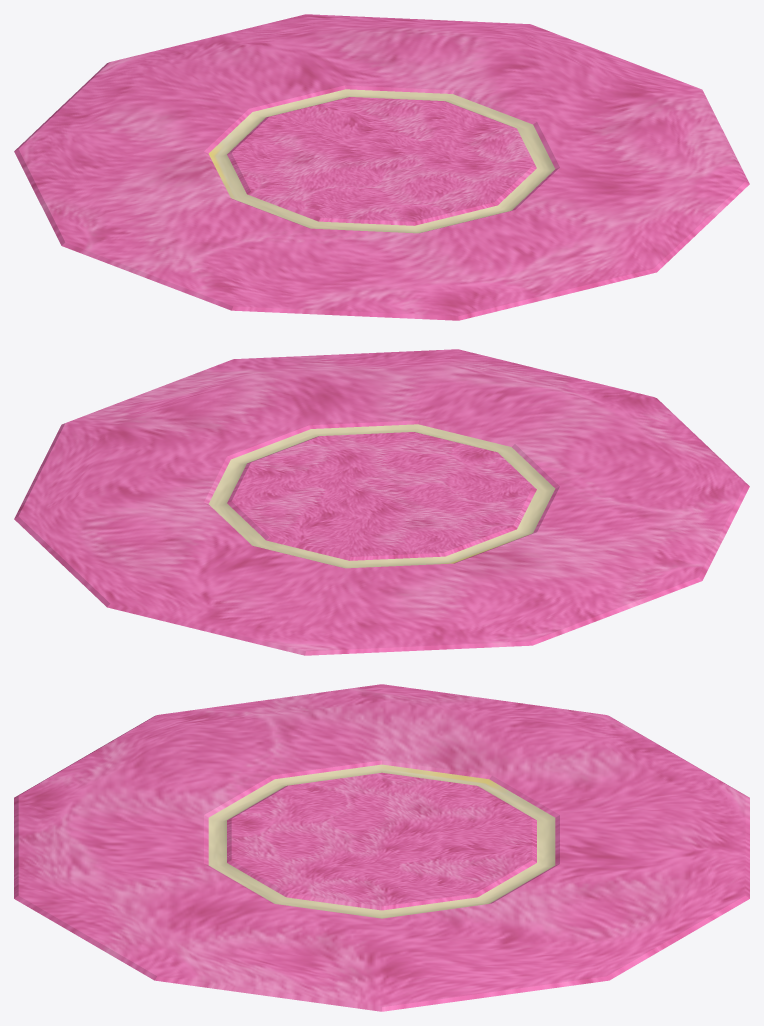
Rendered from Circular_Carpet_06.FBX.
The picture shows the model from 3 angles, top to bottom: view 1: azimuth 30°, elevation 25°; view 2: azimuth 150°, elevation 25°; view 3: azimuth 270°, elevation 25°; orthographic projection. The views are drawn at different scales.
Visible parts, largest first — view 1: Circular_Carpet; view 2: Circular_Carpet; view 3: Circular_Carpet.
Part boxes in pixels (<box>): Circular_Carpet: <box>14,14,749,320</box>; Circular_Carpet: <box>14,349,749,655</box>; Circular_Carpet: <box>14,684,749,1011</box>.
Bounding box in the file's own units: 316 × 4.05 × 300.
